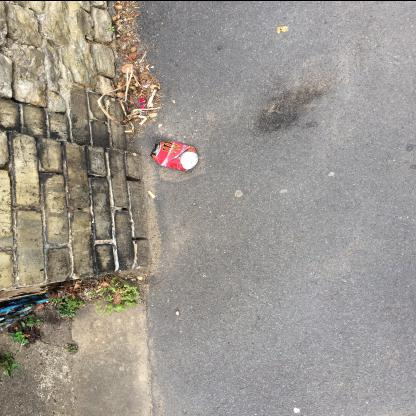metal: (149, 140, 199, 170)
